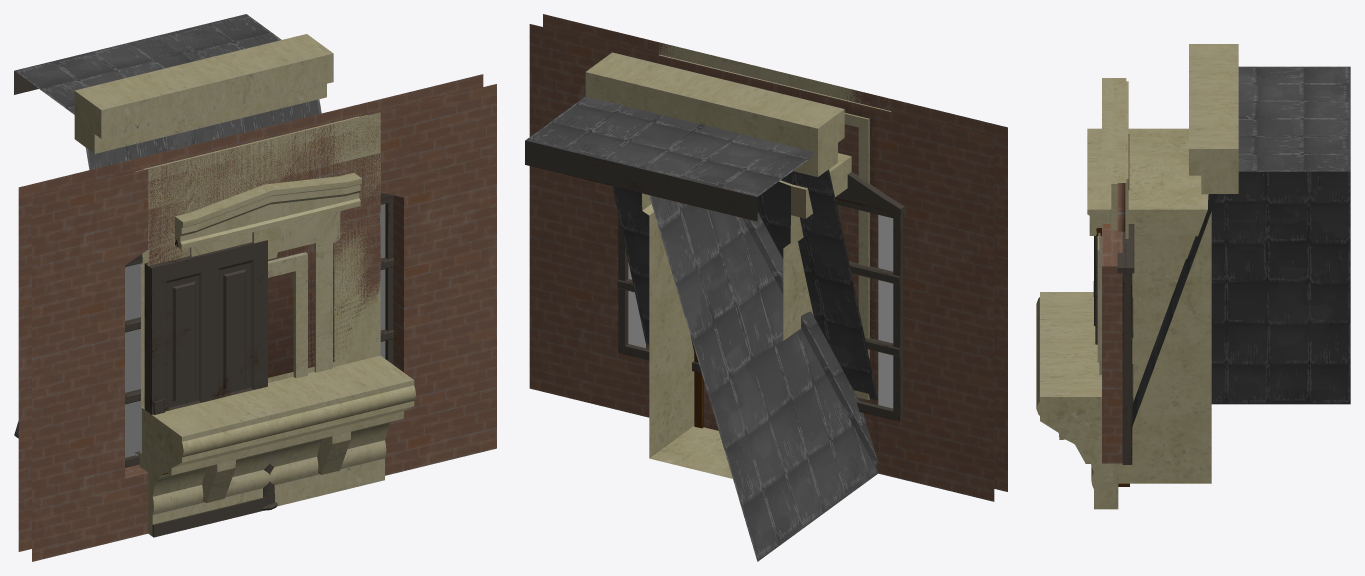
The model's file is architecture-desktop.glb.
3 views of the same model, side by side, from view 1: azimuth 30°, elevation 25°; view 2: azimuth 150°, elevation 25°; view 3: azimuth 270°, elevation 25° (orthographic). The views are drawn at different scales.
Parts seen in each view (by area): view 1: Brick_Window_CurvedDouble, Cornice_Trim_Center, Roof_SlateCornice_Center, Door_1, Roof_Slate_Window_1, Trim_Window, Brick_Window_Square_Single, Brick_Plain_3, Trim_FirstFloor_Window.001, Roof_Slate_Corner, DoorFrame_Trim; view 2: Brick_Window_CurvedDouble, Roof_Slate_Corner, Roof_Slate_Window_1, Roof_SlateCornice_Center, Trim_FirstFloor_Window.001, Brick_Plain_3, Brick_Window_Square_Single, DoorFrame_Trim, Trim_Window; view 3: Roof_Slate_Window_1, Roof_Slate_Corner, Roof_SlateCornice_Center, Cornice_Trim_Center, Brick_Window_CurvedDouble, Trim_FirstFloor_Window.001, DoorFrame_Trim, Door_1.
Boxes of the visible parts, x1,y1,x2,y2 form: Brick_Window_CurvedDouble: [18, 74, 496, 561]; Cornice_Trim_Center: [141, 355, 415, 536]; Roof_SlateCornice_Center: [14, 14, 333, 455]; Door_1: [144, 240, 268, 537]; Roof_Slate_Window_1: [14, 14, 361, 454]; Trim_Window: [135, 104, 380, 451]; Brick_Window_Square_Single: [135, 106, 380, 378]; Brick_Plain_3: [136, 103, 380, 377]; Trim_FirstFloor_Window.001: [135, 102, 380, 453]; Roof_Slate_Corner: [14, 14, 298, 438]; DoorFrame_Trim: [135, 102, 367, 468]; Brick_Window_CurvedDouble: [529, 14, 1007, 501]; Roof_Slate_Corner: [531, 100, 877, 561]; Roof_Slate_Window_1: [525, 96, 877, 478]; Roof_SlateCornice_Center: [525, 52, 850, 382]; Trim_FirstFloor_Window.001: [646, 42, 890, 471]; Brick_Plain_3: [646, 56, 878, 471]; Brick_Window_Square_Single: [647, 46, 878, 472]; DoorFrame_Trim: [646, 53, 890, 444]; Trim_Window: [646, 44, 889, 461]; Roof_Slate_Window_1: [1087, 66, 1350, 483]; Roof_Slate_Corner: [1211, 116, 1350, 404]; Roof_SlateCornice_Center: [1118, 44, 1350, 464]; Cornice_Trim_Center: [1036, 292, 1114, 509]; Brick_Window_CurvedDouble: [1102, 224, 1134, 464]; Trim_FirstFloor_Window.001: [1102, 78, 1128, 238]; DoorFrame_Trim: [1102, 78, 1129, 509]; Door_1: [1093, 236, 1097, 344].
Size of the model in its own units: 4 by 3.21 by 2.53.
6 materials, 4 textured.
